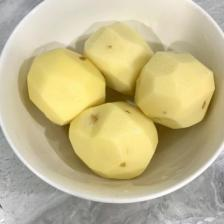Potato: (68, 98, 160, 180), (26, 46, 106, 128), (134, 50, 216, 130), (82, 20, 154, 94)
